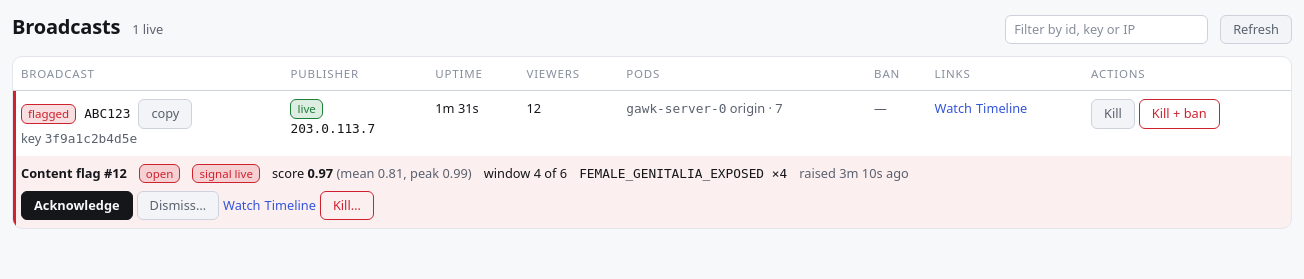
the actions › explains a 409 instead of failing loudly
Click the button "Acknowledge" at (77, 206), box [21,191,133,220]
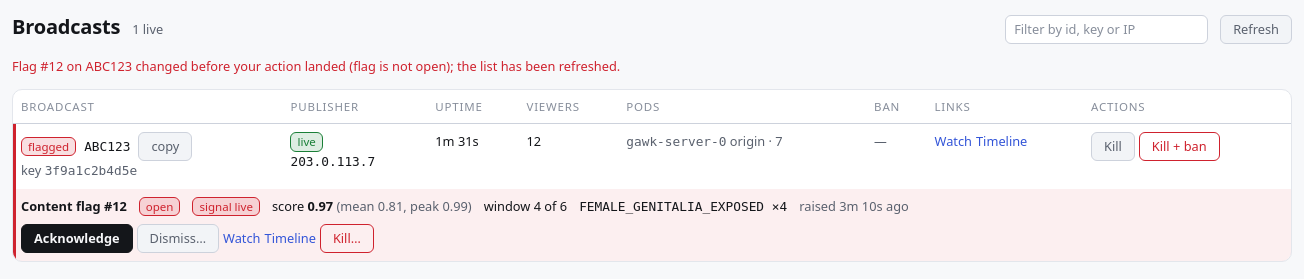
expect the text "changed before your action landed (flag is not open)" is shown: met, box [12,57,620,75]
